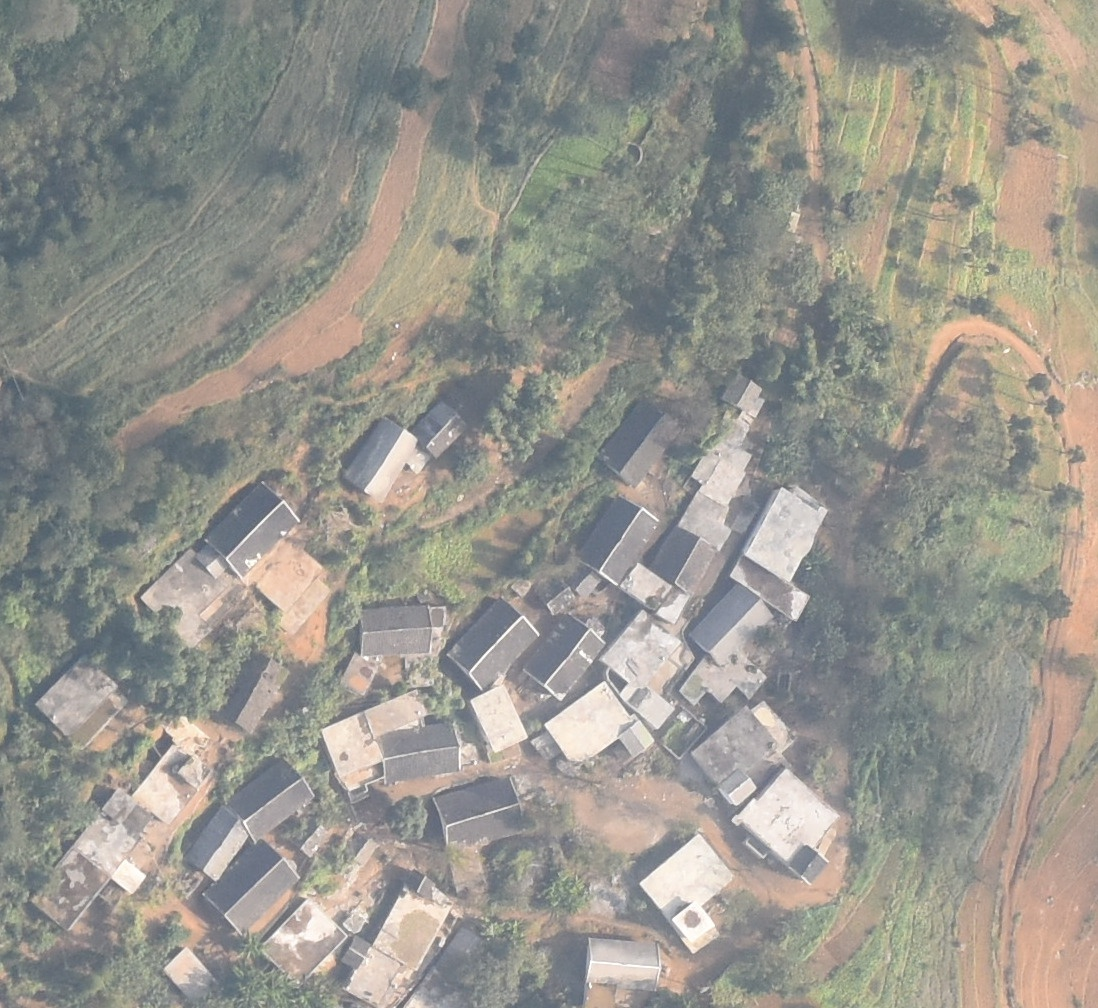building: (30, 788, 155, 936), (734, 766, 841, 885), (640, 832, 734, 953), (141, 548, 251, 649), (691, 706, 796, 802), (202, 481, 300, 581), (202, 840, 301, 937), (323, 689, 431, 777), (36, 654, 131, 753), (545, 680, 656, 764), (447, 598, 543, 691), (372, 878, 459, 975), (258, 896, 350, 987), (226, 755, 316, 847), (744, 487, 827, 583), (523, 610, 609, 699), (688, 581, 776, 666), (577, 496, 659, 586), (597, 400, 680, 485), (343, 415, 421, 503), (134, 741, 213, 825), (603, 610, 684, 691), (433, 777, 525, 846), (222, 652, 288, 734), (379, 722, 465, 783), (185, 807, 253, 884), (649, 527, 718, 592), (584, 937, 662, 994), (469, 685, 530, 755), (356, 604, 433, 656), (692, 436, 751, 503), (411, 402, 472, 462), (678, 489, 734, 550), (162, 945, 220, 1002), (620, 563, 673, 610), (721, 373, 764, 411)
